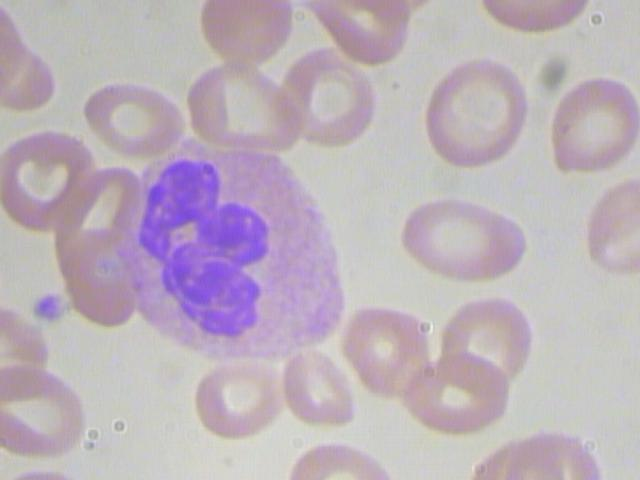RBC: (416, 53, 537, 168), (398, 196, 529, 282), (543, 62, 640, 177), (397, 344, 522, 433), (434, 296, 559, 385), (279, 43, 383, 147), (70, 71, 190, 157), (339, 306, 440, 407), (188, 355, 292, 447), (1, 364, 93, 468), (185, 1, 306, 70), (574, 179, 640, 288), (284, 348, 360, 434)
